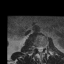CCS_normal: (39, 44, 41, 53)
LFS_normal: (43, 43, 45, 50)
LLS_normal: (41, 44, 43, 52)
RFS_stenosis: (35, 44, 37, 50)
RLS_normal: (37, 44, 39, 53)
